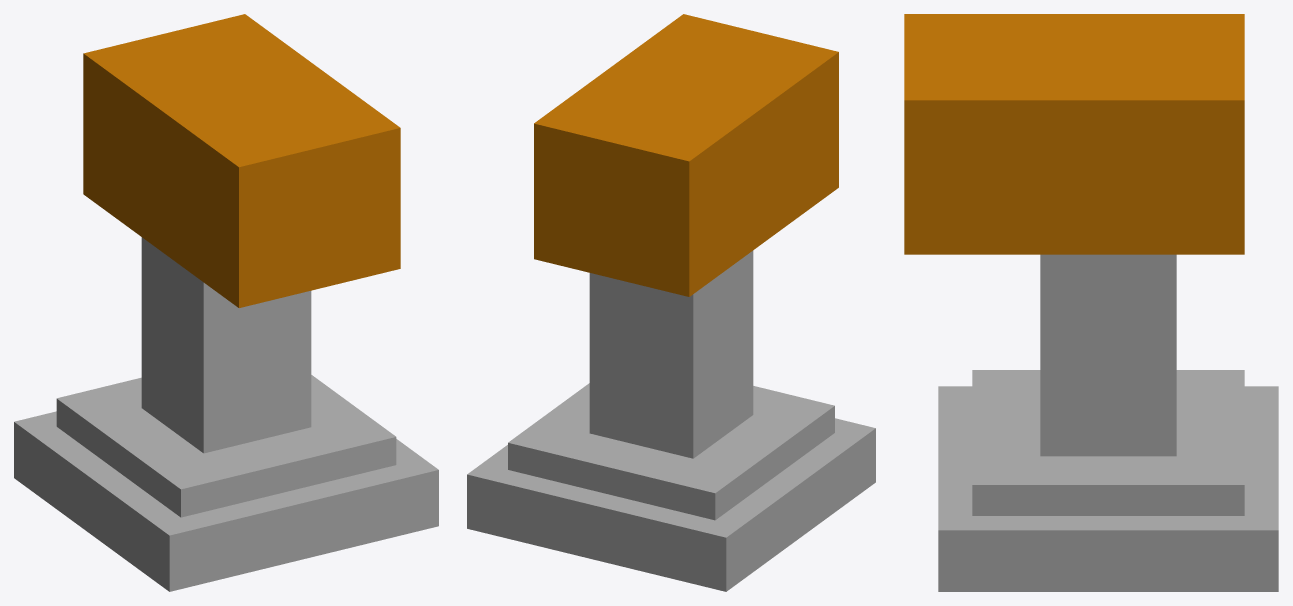
The model's file is FanBody.obj.
The picture shows the model from 3 angles, left to right: view 1: azimuth 30°, elevation 25°; view 2: azimuth 150°, elevation 25°; view 3: azimuth 270°, elevation 25°; orthographic projection. The views are drawn at different scales.
Size of the model in its own units: 1 by 1.5 by 1.1.
Materials: 1 (1 with a texture image).
